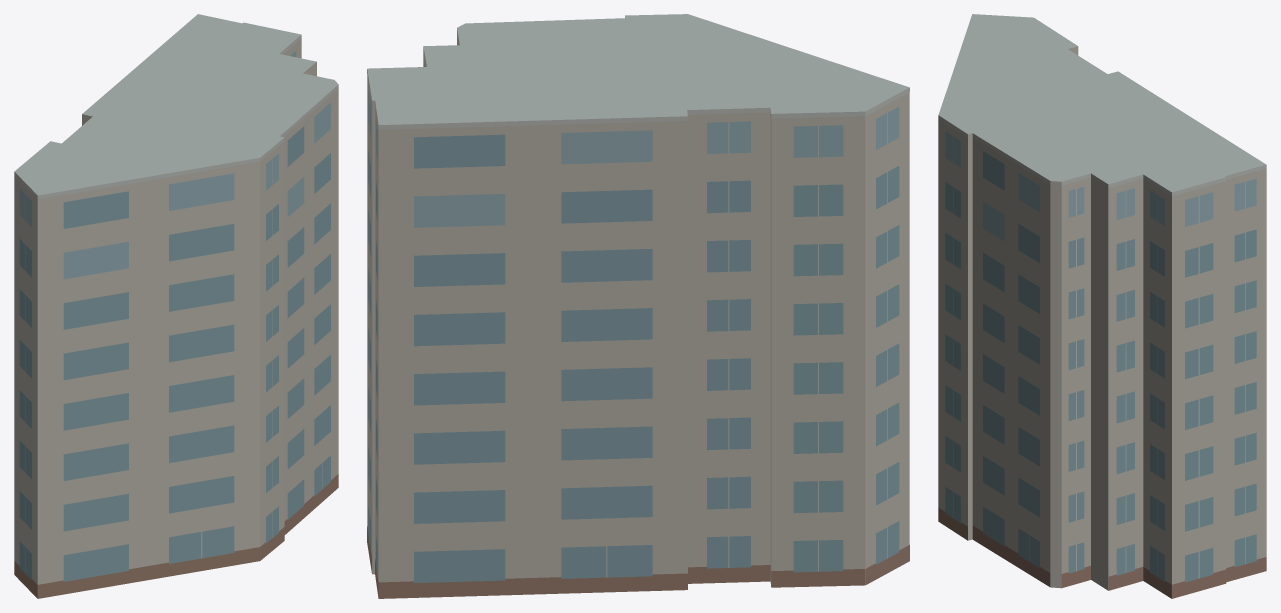
File: survey-upis-32947416.glb
The picture shows the model from 3 angles, left to right: view 1: azimuth 30°, elevation 25°; view 2: azimuth 150°, elevation 25°; view 3: azimuth 270°, elevation 25°; orthographic projection. The views are drawn at different scales.
Parts seen in each view (by area): view 1: survey-upis-32947416.tmp; view 2: survey-upis-32947416.tmp; view 3: survey-upis-32947416.tmp.
Boxes of the visible parts, bbox=[...] form: survey-upis-32947416.tmp: bbox=[14, 14, 338, 598]; survey-upis-32947416.tmp: bbox=[367, 14, 909, 598]; survey-upis-32947416.tmp: bbox=[938, 14, 1266, 598].
Size of the model in its own units: 23.46 by 24.9 by 18.23.
